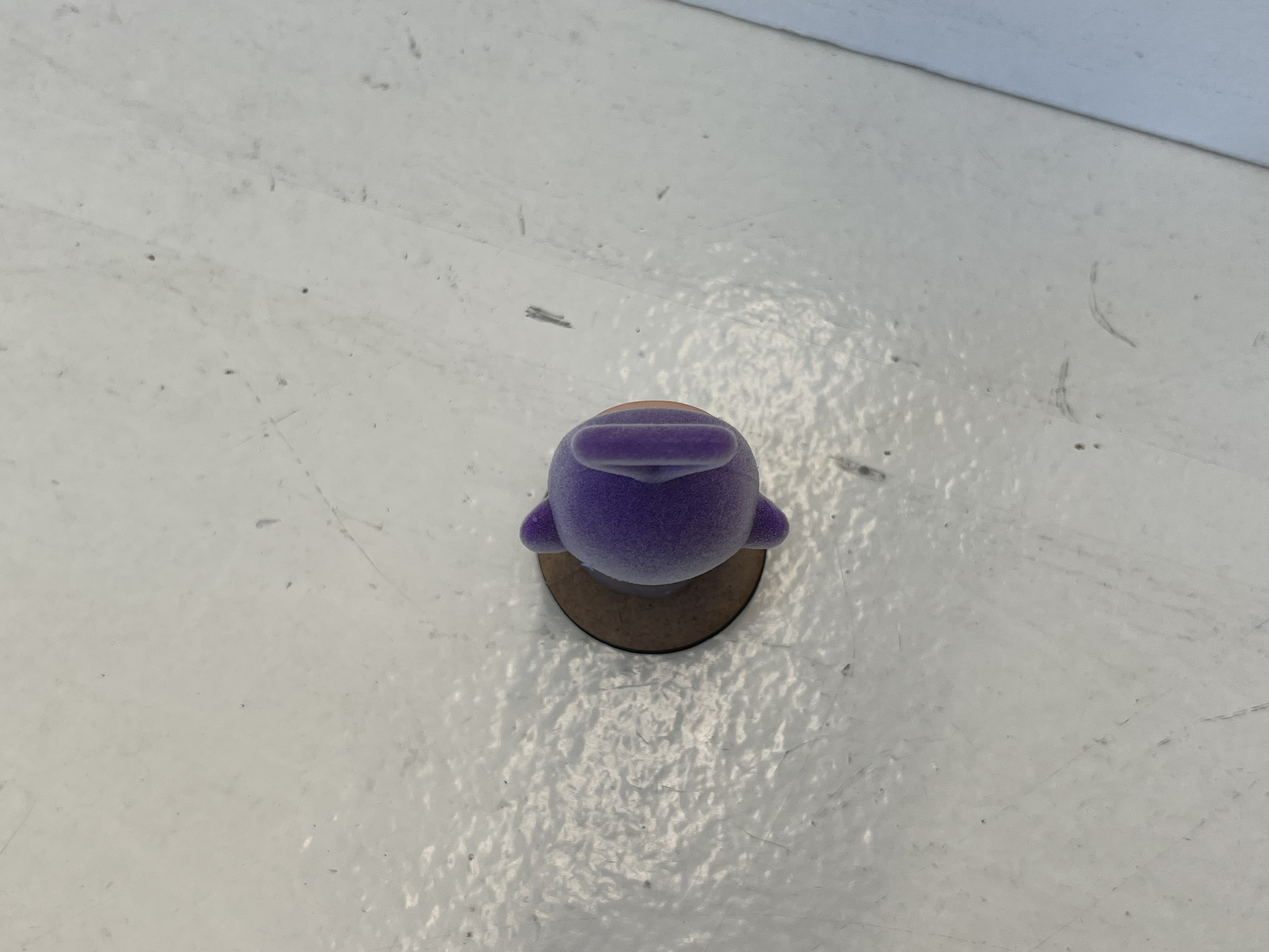teletubby: (520, 401, 788, 588)
